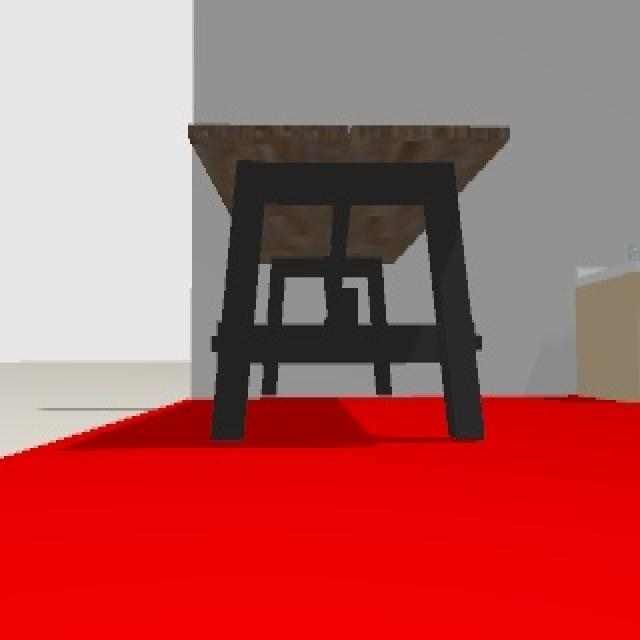dining: (189, 120, 515, 446)
